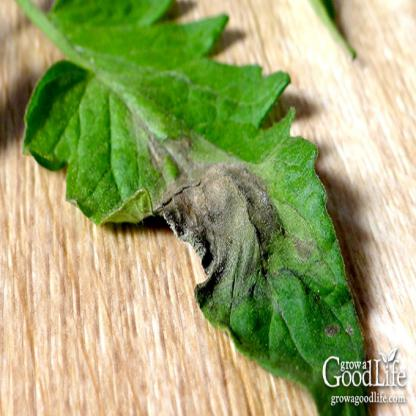tomato leaf late blight: (24, 7, 373, 407)
